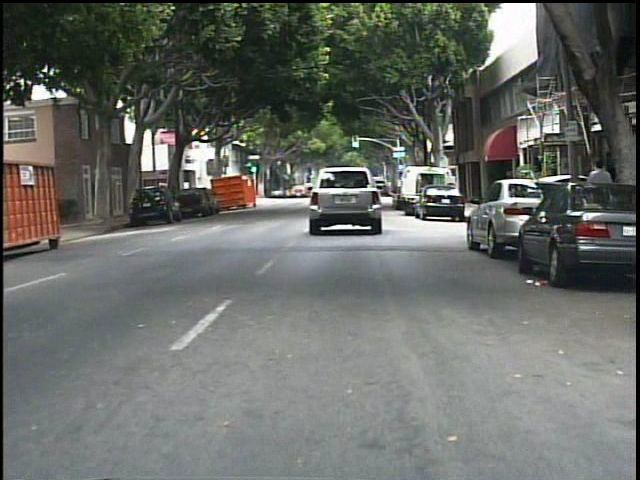person: (582, 154, 616, 242)
